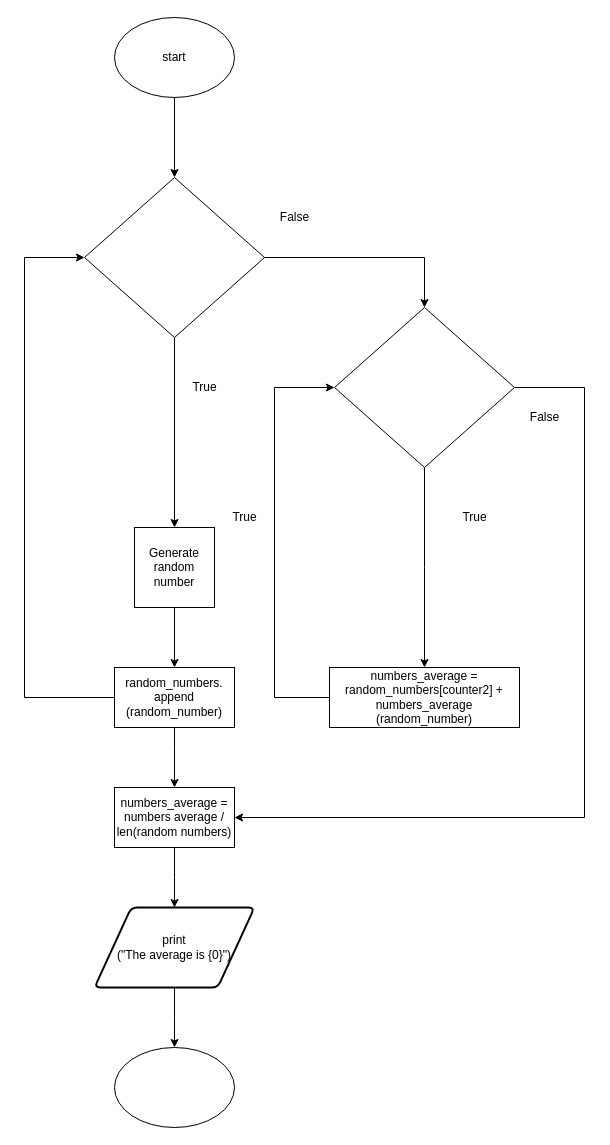
This 610x1145 diagram has some shape labels left out. The centre of each missing label's shape, as x and y in pixels:
"for in counter =0; counter <10; counter++" belongs at point 174,257.
"for in counter2 =0; counter 2<10; counter++" belongs at point 424,387.
"stop" belongs at point 174,1087.
